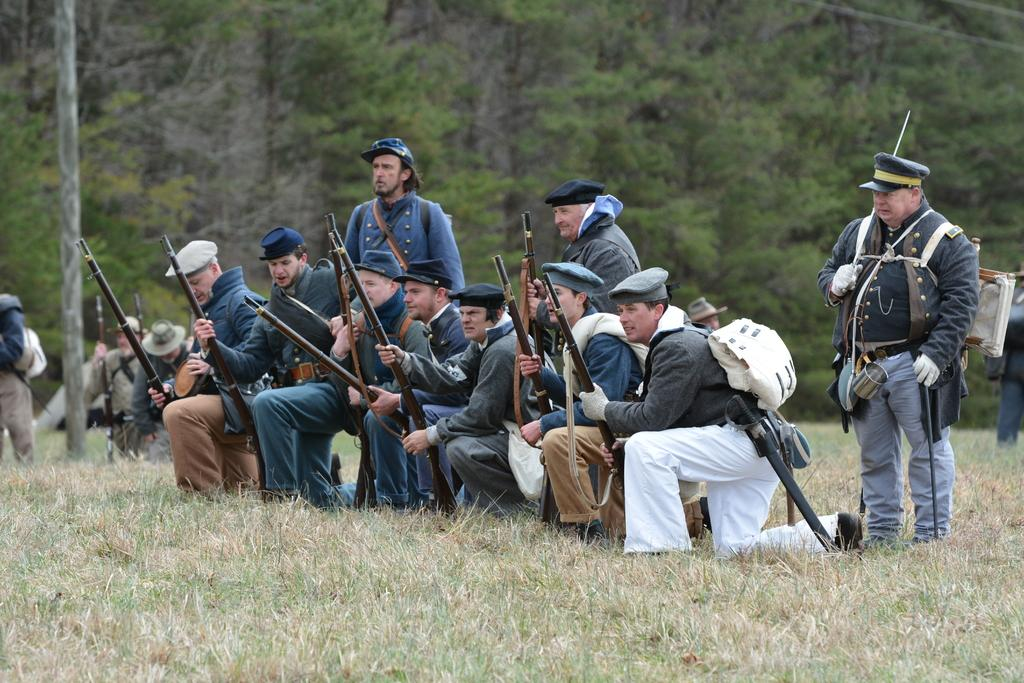Rifle: (330, 233, 453, 514)
